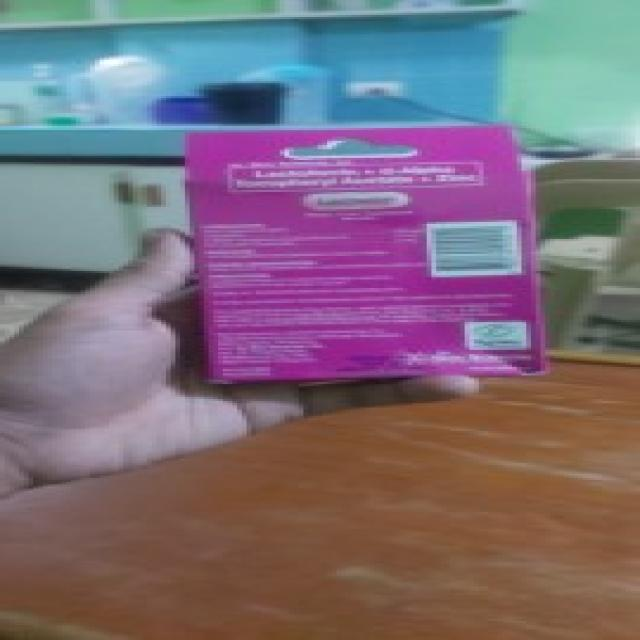Cacat: (202, 125, 531, 376)
